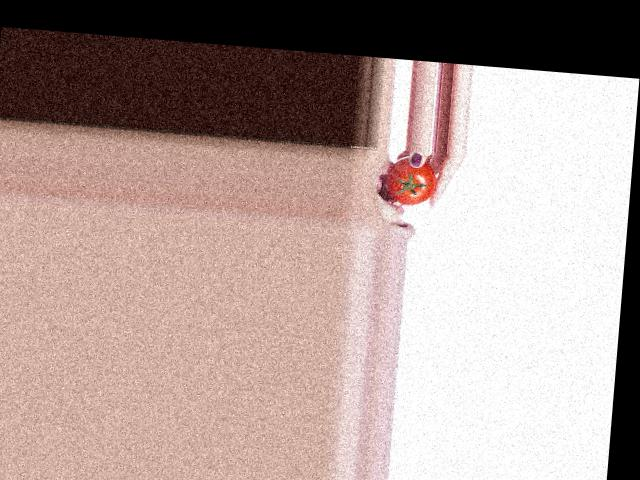tomato: (385, 154, 439, 207)
